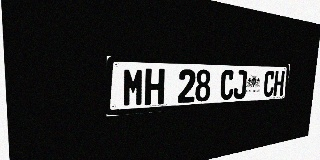2: (178, 69, 196, 103)
8: (195, 69, 211, 102)
C: (220, 70, 235, 100), (263, 71, 275, 97)
H: (144, 68, 165, 106), (273, 71, 285, 96)
J: (233, 70, 247, 99)
M: (122, 68, 145, 107)
